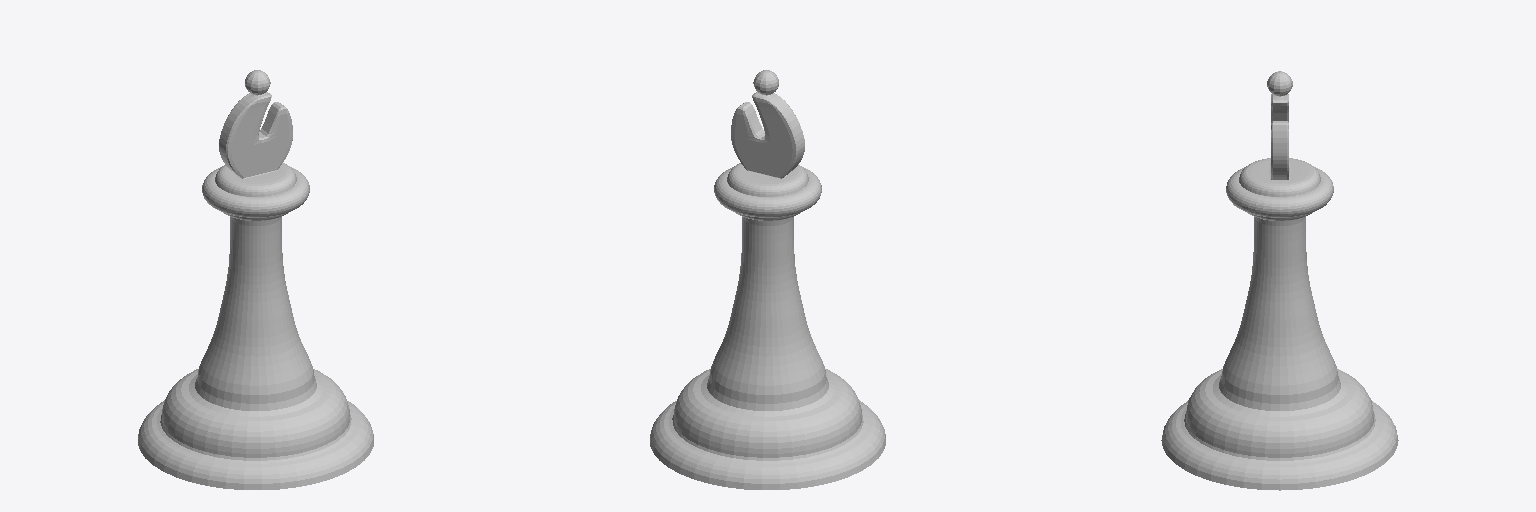
The model's file is whitediagonal.obj.
3 views of the same model, side by side, from view 1: azimuth 30°, elevation 25°; view 2: azimuth 150°, elevation 25°; view 3: azimuth 270°, elevation 25° (orthographic).
Visible parts, largest first — view 1: white_bishop1_Mesh.002; view 2: white_bishop1_Mesh.002; view 3: white_bishop1_Mesh.002.
Boxes of the visible parts, x1=… form: white_bishop1_Mesh.002: x1=138, y1=70, x2=373, y2=489; white_bishop1_Mesh.002: x1=650, y1=70, x2=885, y2=489; white_bishop1_Mesh.002: x1=1161, y1=71, x2=1398, y2=490.
Size of the model in its own units: 0.1692 by 0.2906 by 0.1692.